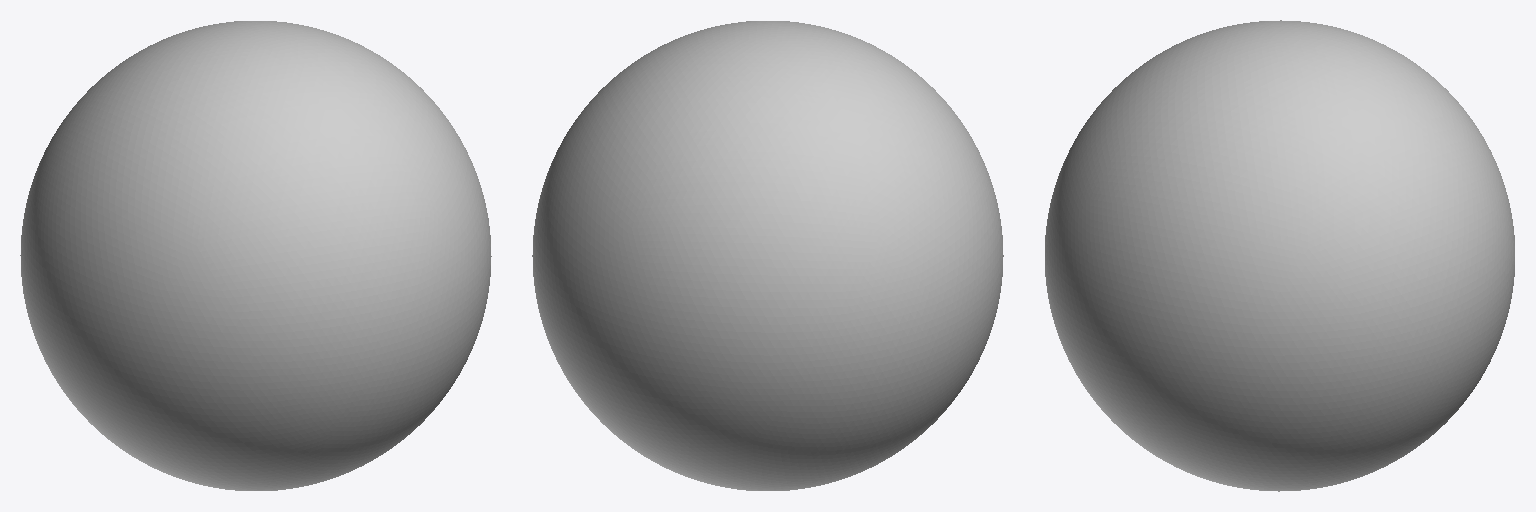
The model's file is Jupiter.obj.
3 views of the same model, side by side, from view 1: azimuth 30°, elevation 25°; view 2: azimuth 150°, elevation 25°; view 3: azimuth 270°, elevation 25° (orthographic).
Visible parts, largest first — view 1: Jupiter; view 2: Jupiter; view 3: Jupiter.
Boxes of the visible parts, box(x1,y1,x2,y2) form: Jupiter: box(20, 21, 491, 490); Jupiter: box(532, 21, 1003, 490); Jupiter: box(1045, 20, 1514, 491).
Size of the model in its own units: 14.95 by 14.95 by 14.94.